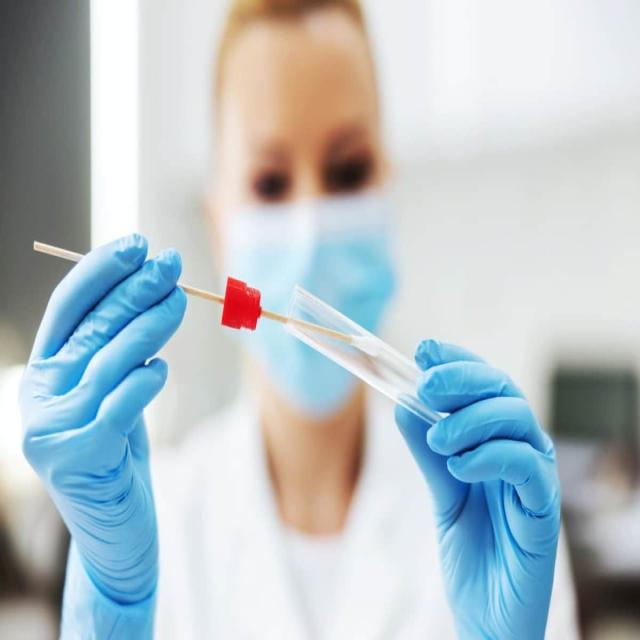B3: (196, 250, 393, 386), (35, 222, 37, 222)
